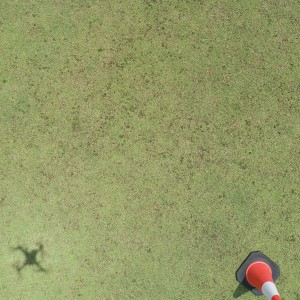traffic cone: (236, 251, 280, 300)
